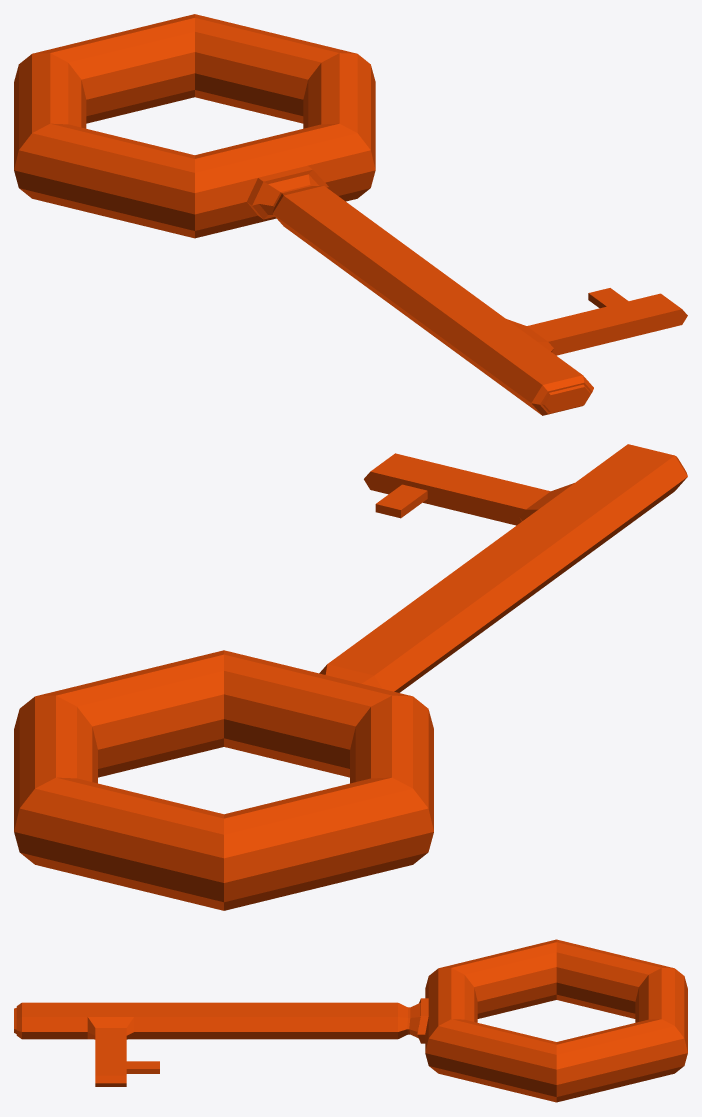
Rendered from Key.fbx.
3 renders of one model, top to bottom at view 1: azimuth 30°, elevation 25°; view 2: azimuth 150°, elevation 25°; view 3: azimuth 270°, elevation 25°, orthographic. The views are drawn at different scales.
Visible parts, largest first — view 1: Key; view 2: Key; view 3: Key.
Boxes of the visible parts, x1,y1,x2,y2 form: Key: [14, 14, 687, 415]; Key: [14, 444, 687, 910]; Key: [14, 939, 687, 1102].
Bounding box in the file's own units: 250 × 50 × 555.
